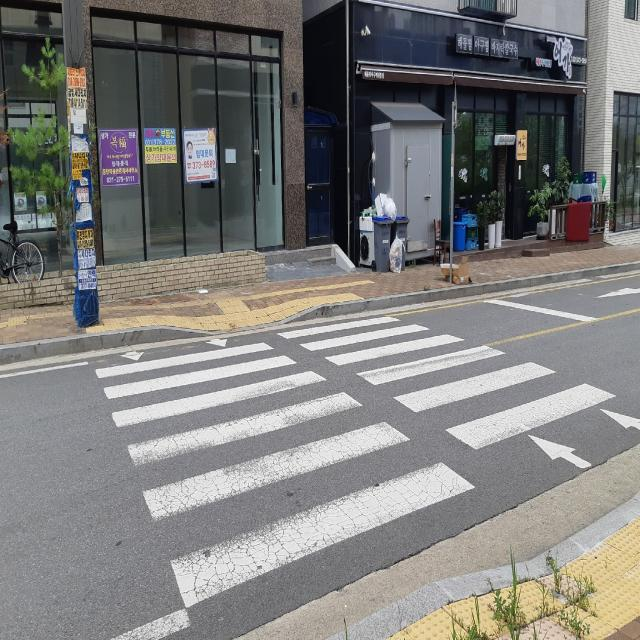횡단보도: (92, 309, 640, 616)
